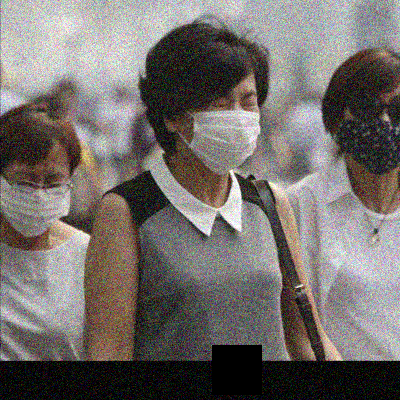with_mask: (176, 88, 261, 170), (0, 165, 69, 237), (341, 92, 399, 175)
